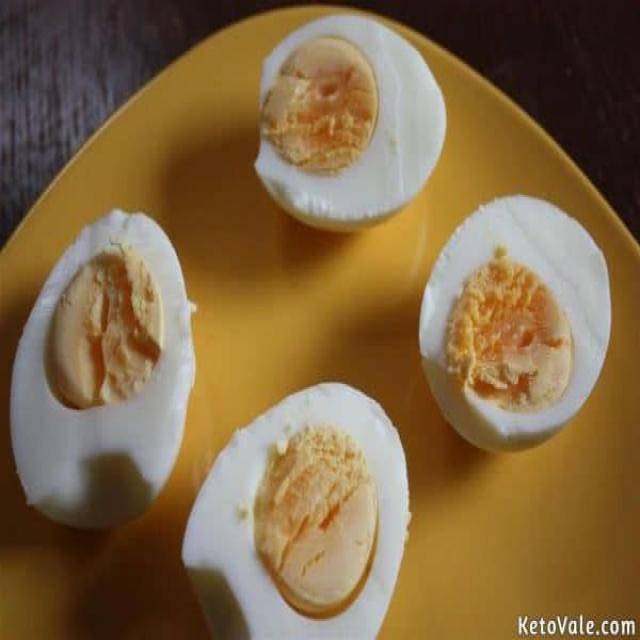eggs: (27, 39, 625, 626)
